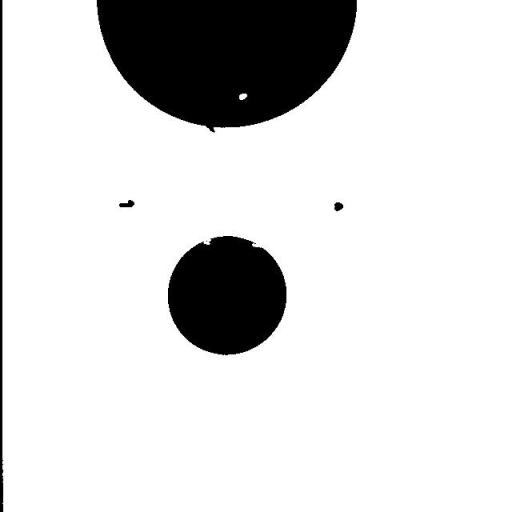copper: (111, 192, 142, 214), (326, 194, 350, 218)
mousebite: (196, 228, 218, 252), (244, 235, 269, 255)
pin-hole: (232, 86, 254, 107)
spur: (198, 115, 222, 140)
